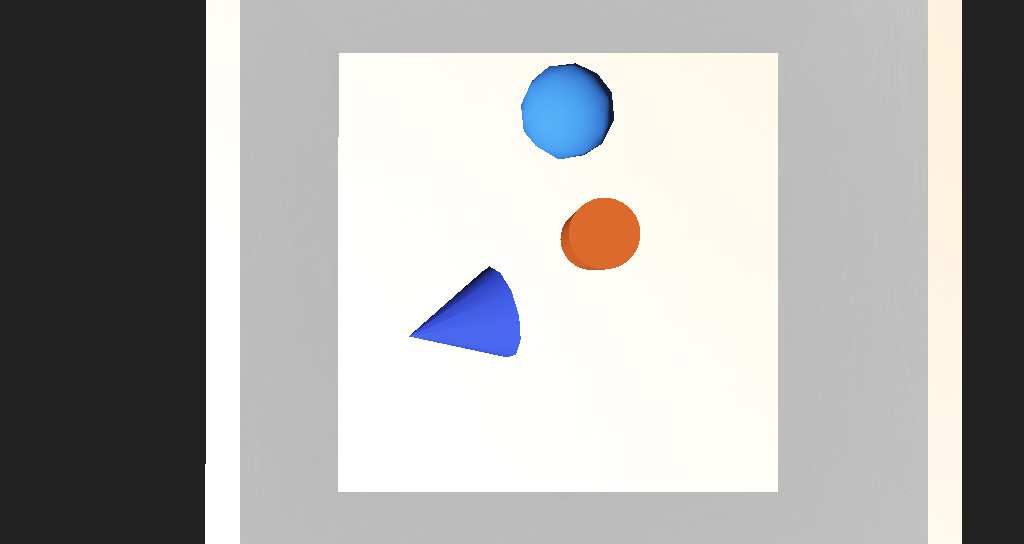cone: (509, 236, 556, 270)
cylinder: (381, 270, 482, 322)
sphere: (482, 167, 542, 215)
